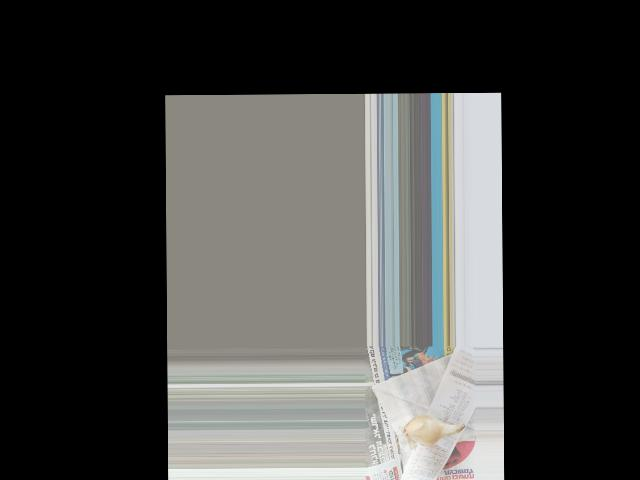onion: (408, 413, 446, 446)
